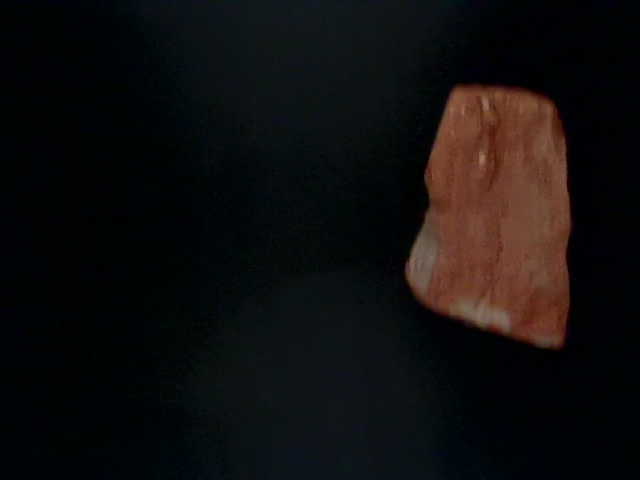KHSLJ: (60, 1, 381, 307)
